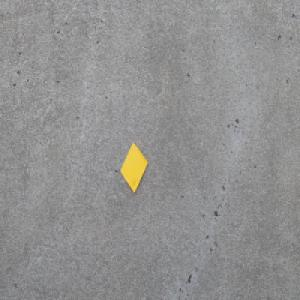PlasticPart: (119, 141, 148, 193)
